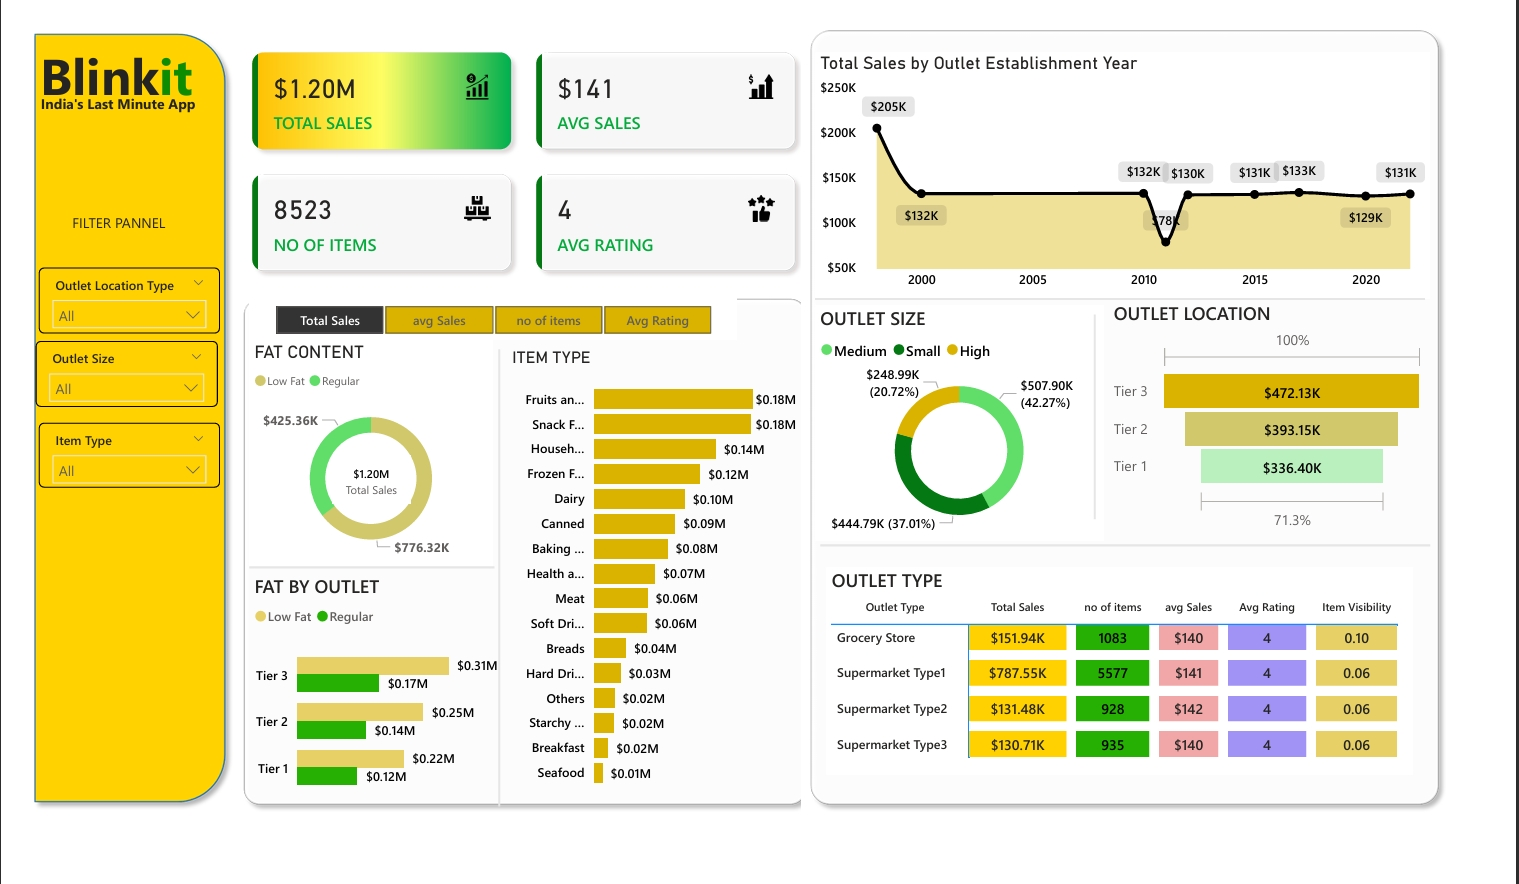

The dashboard page shown, as its layout file describes it:
{"tool":"powerbi","page":{"name":"Page 1","canvas":[1400,800],"ordinal":0},"visuals":[{"type":"shape","box":[0,2.5,200,751.2],"z":0},{"type":"textbox","box":[10.1,64.6,160.8,29.1],"z":1000},{"type":"textbox","box":[8.9,12.7,160.8,81],"z":2000},{"type":"cardVisual","fields":{"Data":["blinkit_data.Total Sales","blinkit_data.avg Sales","blinkit_data.no of items","blinkit_data.Avg Rating"]},"box":[200,12.5,553.8,243.8],"z":3000},{"type":"shape","box":[200,256.2,553.8,500],"z":4000},{"type":"donutChart","title":"FAT CONTENT","fields":{"Y":["blinkit_data.Total Sales"],"Category":["blinkit_data.Item Fat Content"]},"box":[213.8,305,232.5,216.2],"z":5000},{"type":"slicer","fields":{"Values":["Metrix.Metrix"]},"box":[213.8,265,465,40],"z":6000},{"type":"cardVisual","fields":{"Data":["blinkit_data.Total Sales"]},"box":[292.5,413.8,75,46.2],"z":7000},{"type":"slicer","title":"FAT BY OUTLET","fields":{"Values":["blinkit_data.Outlet Location Type"]},"box":[12.5,235,173.8,62.5],"z":8000},{"type":"shape","box":[213.8,511.2,233.8,20],"z":9000},{"type":"shape","box":[446.2,312.5,12.5,436.2],"z":10000},{"type":"clusteredBarChart","title":"ITEM TYPE","fields":{"Y":["blinkit_data.Total Sales"],"Category":["blinkit_data.Item Type"]},"box":[460,311.2,281.2,430],"z":11000},{"type":"shape","box":[741.2,0,616.2,756.2],"z":12000},{"type":"lineChart","fields":{"Y":["blinkit_data.Total Sales"],"Category":["blinkit_data.Outlet Establishment Year"]},"box":[753.8,30,587.5,235],"z":13000},{"type":"shape","box":[753.8,258.8,582.5,12.5],"z":14000},{"type":"donutChart","title":"OUTLET SIZE","fields":{"Y":["blinkit_data.Total Sales"],"Category":["blinkit_data.Outlet Size"]},"box":[753.8,271.2,275,225],"z":15000},{"type":"shape","box":[1012.5,280,16.2,195],"z":16000},{"type":"funnel","title":"OUTLET LOCATION","fields":{"Category":["blinkit_data.Outlet Location Type"],"Y":["blinkit_data.Total Sales"]},"box":[1033.8,266.2,307.5,225],"z":17000},{"type":"shape","box":[758.8,493.8,582.5,12.5],"z":18000},{"type":"pivotTable","title":"OUTLET TYPE","fields":{"Rows":["blinkit_data.Outlet Type"],"Values":["blinkit_data.Total Sales","blinkit_data.no of items","blinkit_data.avg Sales","blinkit_data.Avg Rating","Avg(blinkit_data.Item Visibility)"]},"box":[765,521.2,560,197.5],"z":19000},{"type":"slicer","title":"FAT BY OUTLET","fields":{"Values":["blinkit_data.Outlet Size"]},"box":[10,305,173.8,62.5],"z":20000},{"type":"slicer","title":"FAT BY OUTLET","fields":{"Values":["blinkit_data.Item Type"]},"box":[12.5,382.5,173.8,62.5],"z":21000},{"type":"clusteredBarChart","title":"FAT BY OUTLET","fields":{"Y":["blinkit_data.Total Sales"],"Category":["blinkit_data.Outlet Location Type"],"Series":["blinkit_data.Item Fat Content"]},"box":[213.8,526.2,242.5,227.5],"z":22000},{"type":"textbox","box":[40,177.5,117.5,35],"z":22001}]}

Visuals, with their boxes in screenshot pixels (x1, y1, x2, y2), scaled from the page's 1400x800 canvas onto the 1519x884 screenshot:
shape: {"left": 0, "top": 3, "right": 217, "bottom": 833}
textbox: {"left": 11, "top": 71, "right": 185, "bottom": 104}
textbox: {"left": 10, "top": 14, "right": 184, "bottom": 104}
cardVisual - blinkit_data.Total Sales x blinkit_data.avg Sales: {"left": 217, "top": 14, "right": 818, "bottom": 283}
shape: {"left": 217, "top": 283, "right": 818, "bottom": 836}
"FAT CONTENT" donutChart: {"left": 232, "top": 337, "right": 484, "bottom": 576}
slicer - Metrix.Metrix: {"left": 232, "top": 293, "right": 736, "bottom": 337}
cardVisual - blinkit_data.Total Sales: {"left": 317, "top": 457, "right": 399, "bottom": 508}
"FAT BY OUTLET" slicer: {"left": 14, "top": 260, "right": 202, "bottom": 329}
shape: {"left": 232, "top": 565, "right": 486, "bottom": 587}
shape: {"left": 484, "top": 345, "right": 498, "bottom": 827}
"ITEM TYPE" clusteredBarChart: {"left": 499, "top": 344, "right": 804, "bottom": 819}
shape: {"left": 804, "top": 0, "right": 1473, "bottom": 836}
lineChart - blinkit_data.Total Sales x blinkit_data.Outlet Establishment Year: {"left": 818, "top": 33, "right": 1455, "bottom": 293}
shape: {"left": 818, "top": 286, "right": 1450, "bottom": 300}
"OUTLET SIZE" donutChart: {"left": 818, "top": 300, "right": 1116, "bottom": 548}
shape: {"left": 1099, "top": 309, "right": 1116, "bottom": 525}
"OUTLET LOCATION" funnel: {"left": 1122, "top": 294, "right": 1455, "bottom": 543}
shape: {"left": 823, "top": 546, "right": 1455, "bottom": 559}
"OUTLET TYPE" pivotTable: {"left": 830, "top": 576, "right": 1438, "bottom": 794}
"FAT BY OUTLET" slicer: {"left": 11, "top": 337, "right": 199, "bottom": 406}
"FAT BY OUTLET" slicer: {"left": 14, "top": 423, "right": 202, "bottom": 492}
"FAT BY OUTLET" clusteredBarChart: {"left": 232, "top": 581, "right": 495, "bottom": 833}
textbox: {"left": 43, "top": 196, "right": 171, "bottom": 235}
